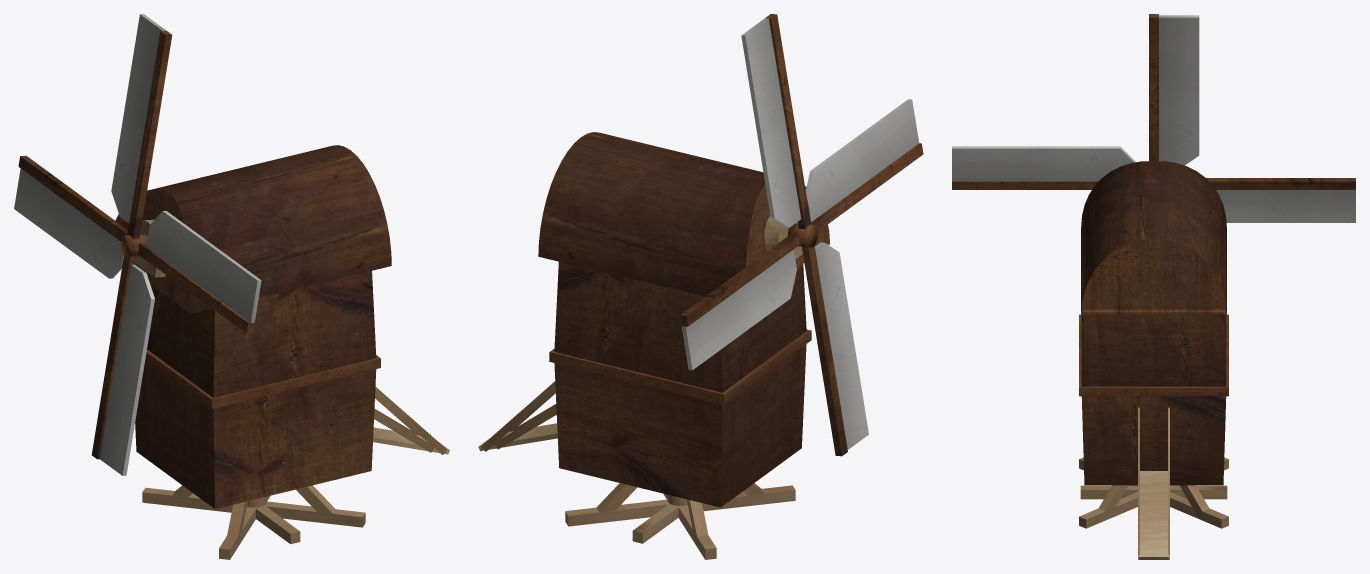
File: Windmill3.fbx
3 views of the same model, side by side, from view 1: azimuth 30°, elevation 25°; view 2: azimuth 150°, elevation 25°; view 3: azimuth 270°, elevation 25° (orthographic). The views are drawn at different scales.
Visible parts, largest first — view 1: Windmill, Wings; view 2: Windmill, Wings; view 3: Windmill, Wings.
Boxes of the visible parts, x1=… form: Windmill: x1=115, y1=145, x2=449, y2=559; Wings: x1=14, y1=14, x2=261, y2=475; Windmill: x1=478, y1=132, x2=829, y2=559; Wings: x1=680, y1=14, x2=923, y2=456; Windmill: x1=1079, y1=161, x2=1228, y2=559; Wings: x1=952, y1=14, x2=1355, y2=222.
Bounding box in the file's own units: 7013 × 9703 × 8000.
Materials: 1 (1 with a texture image).
